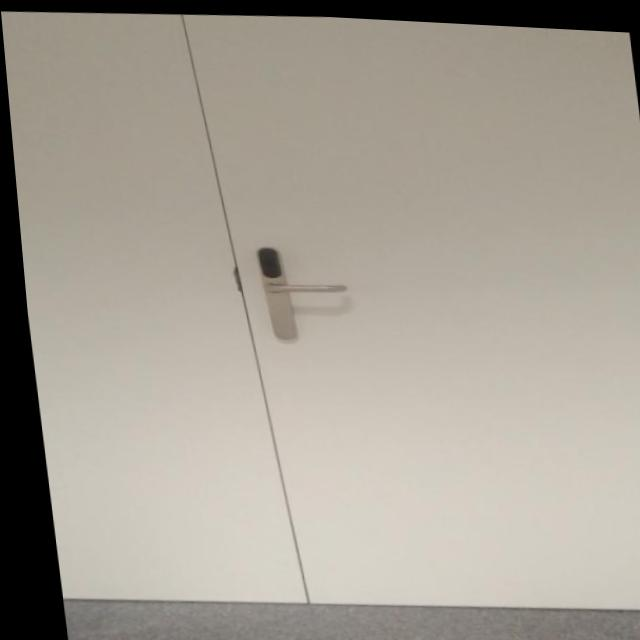door_handle: (256, 275, 351, 296)
